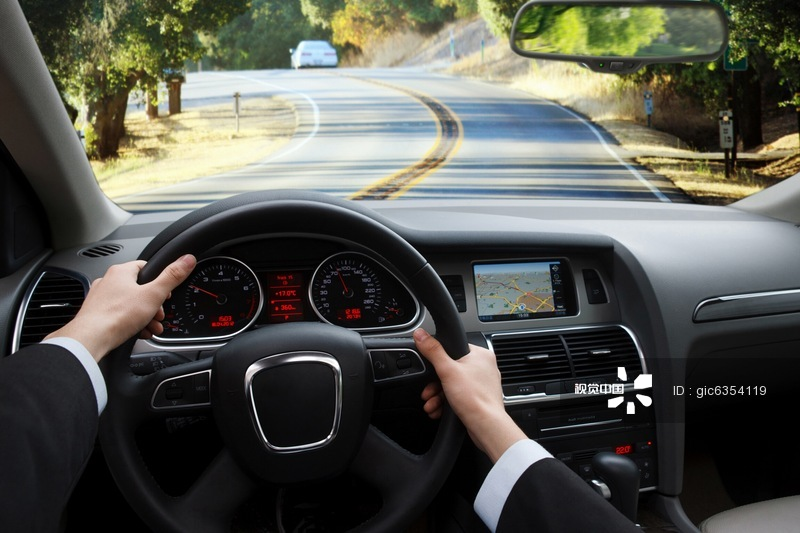no-phone: (35, 244, 217, 369), (399, 318, 524, 434)
